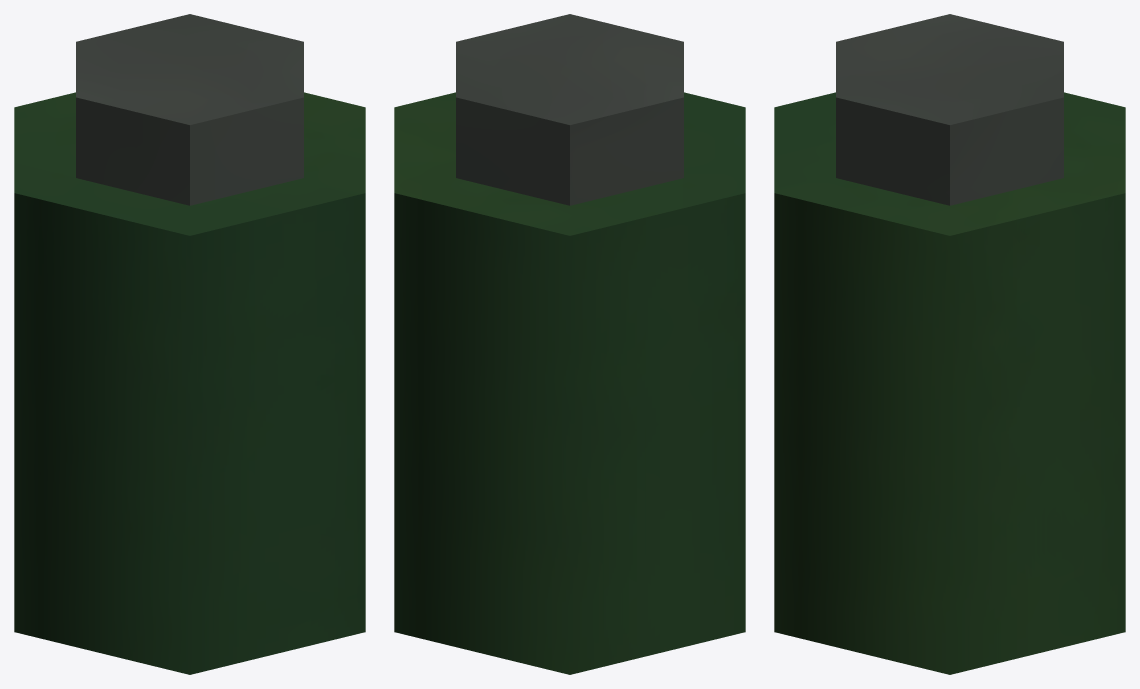
The model's file is nerala_grenade.fbx.
3 renders of one model, left to right at view 1: azimuth 30°, elevation 25°; view 2: azimuth 150°, elevation 25°; view 3: azimuth 270°, elevation 25°, orthographic.
Parts seen in each view (by area): view 1: nerala_smoke_grenade; view 2: nerala_smoke_grenade; view 3: nerala_smoke_grenade.
Part boxes in pixels (x1=…): nerala_smoke_grenade: x1=14, y1=14, x2=365, y2=674; nerala_smoke_grenade: x1=394, y1=14, x2=745, y2=674; nerala_smoke_grenade: x1=774, y1=14, x2=1125, y2=674.
Bounding box in the file's own units: 0.3273 × 0.4627 × 0.2834.
